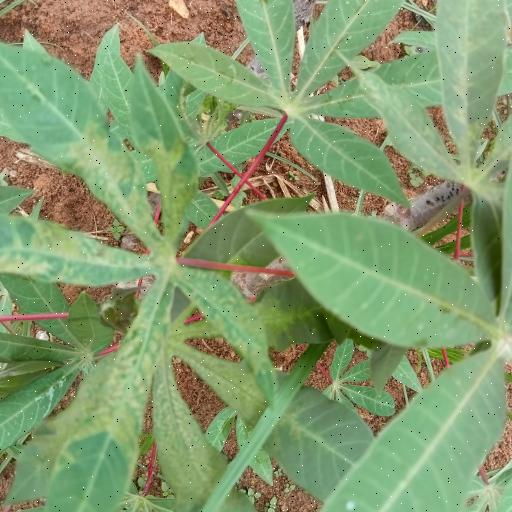Cassava_Mosaic: (2, 42, 285, 512), (153, 3, 464, 200)
